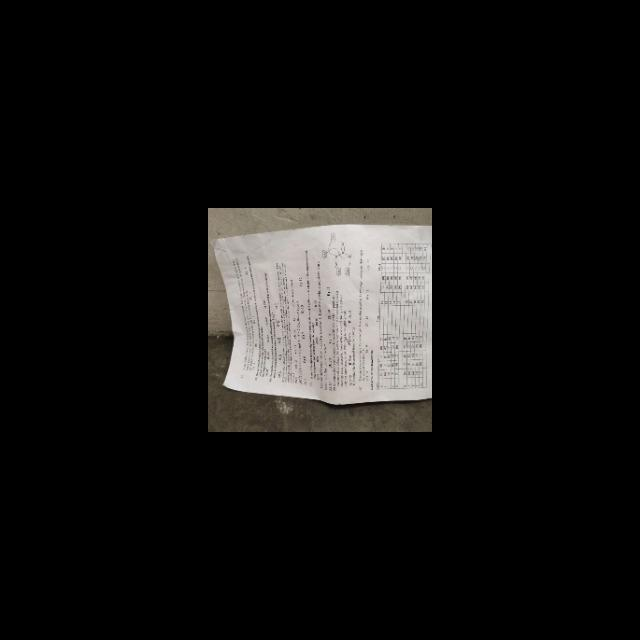paper: (212, 224, 432, 408)
